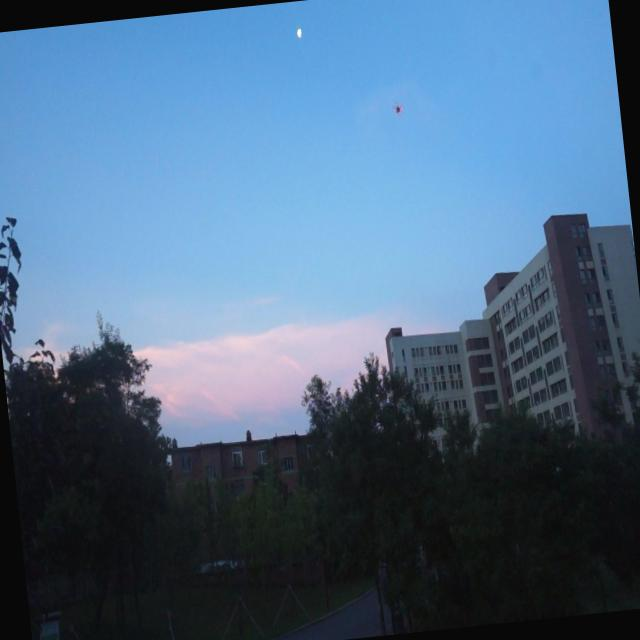drone: (389, 96, 406, 120)
